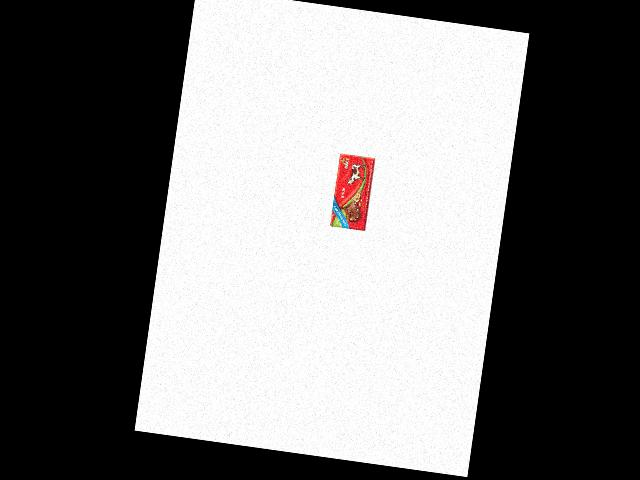chocolate: (329, 150, 374, 230)
